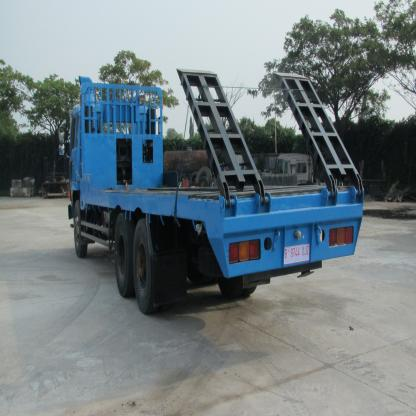truck: (66, 66, 363, 313)
